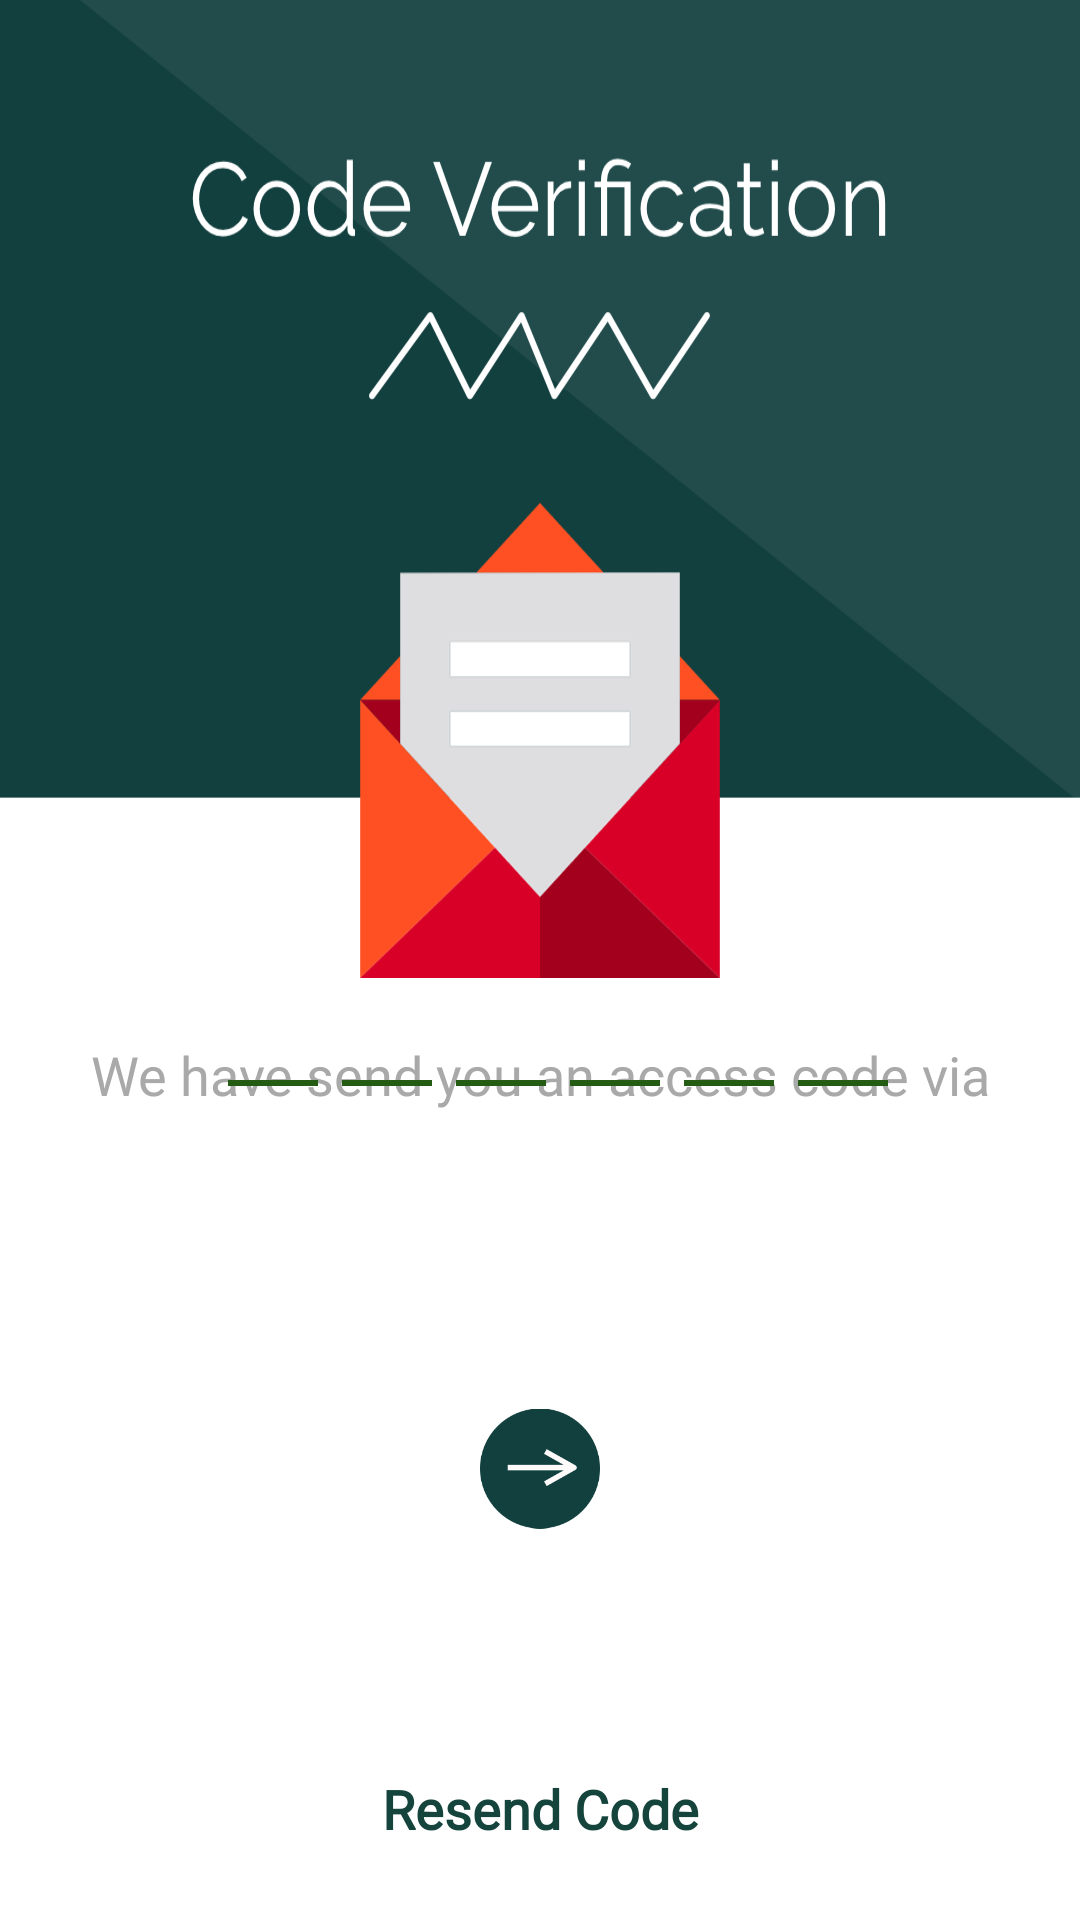

Where icons sit on this 1080×1920 app screen, as (x1, y1, x2, y2):
submit: (480, 1409, 600, 1529)
